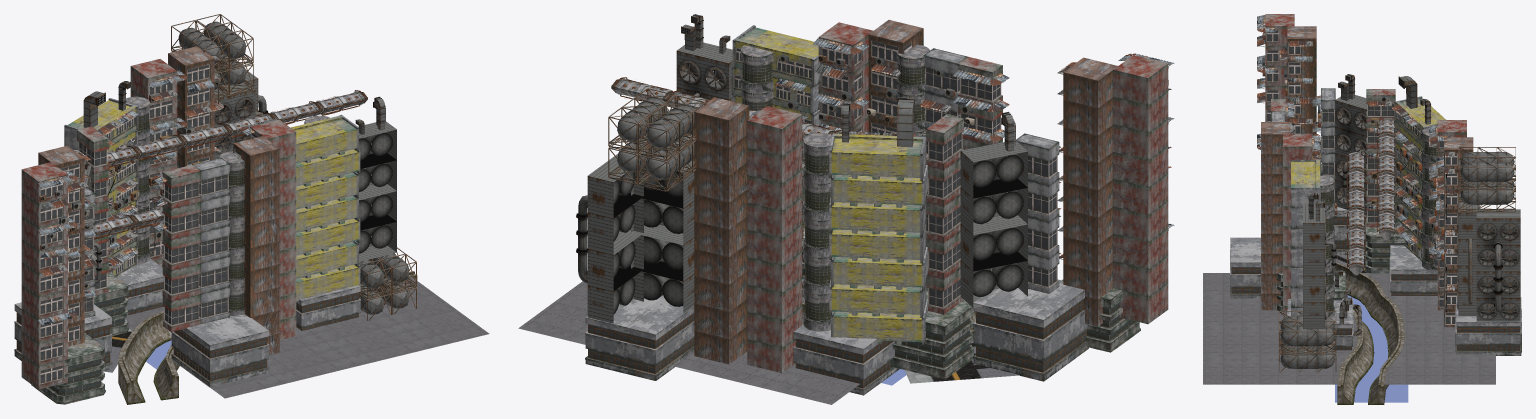
File: SUP_cyberpunk_slums_scene.glb
The picture shows the model from 3 angles, left to right: view 1: azimuth 30°, elevation 25°; view 2: azimuth 150°, elevation 25°; view 3: azimuth 270°, elevation 25°; orthographic projection. The views are drawn at different scales.
Parts seen in each view (by area): view 1: SUP_cyberpunk_slums_scene; view 2: SUP_cyberpunk_slums_scene; view 3: SUP_cyberpunk_slums_scene.
Part boxes in pixels (bbox=[...]): SUP_cyberpunk_slums_scene: bbox=[14, 14, 489, 404]; SUP_cyberpunk_slums_scene: bbox=[518, 14, 1174, 404]; SUP_cyberpunk_slums_scene: bbox=[1203, 14, 1521, 404].
Bounding box in the file's own units: 57.25 × 32.25 × 43.51.
Materials: 24 (22 with a texture image).
